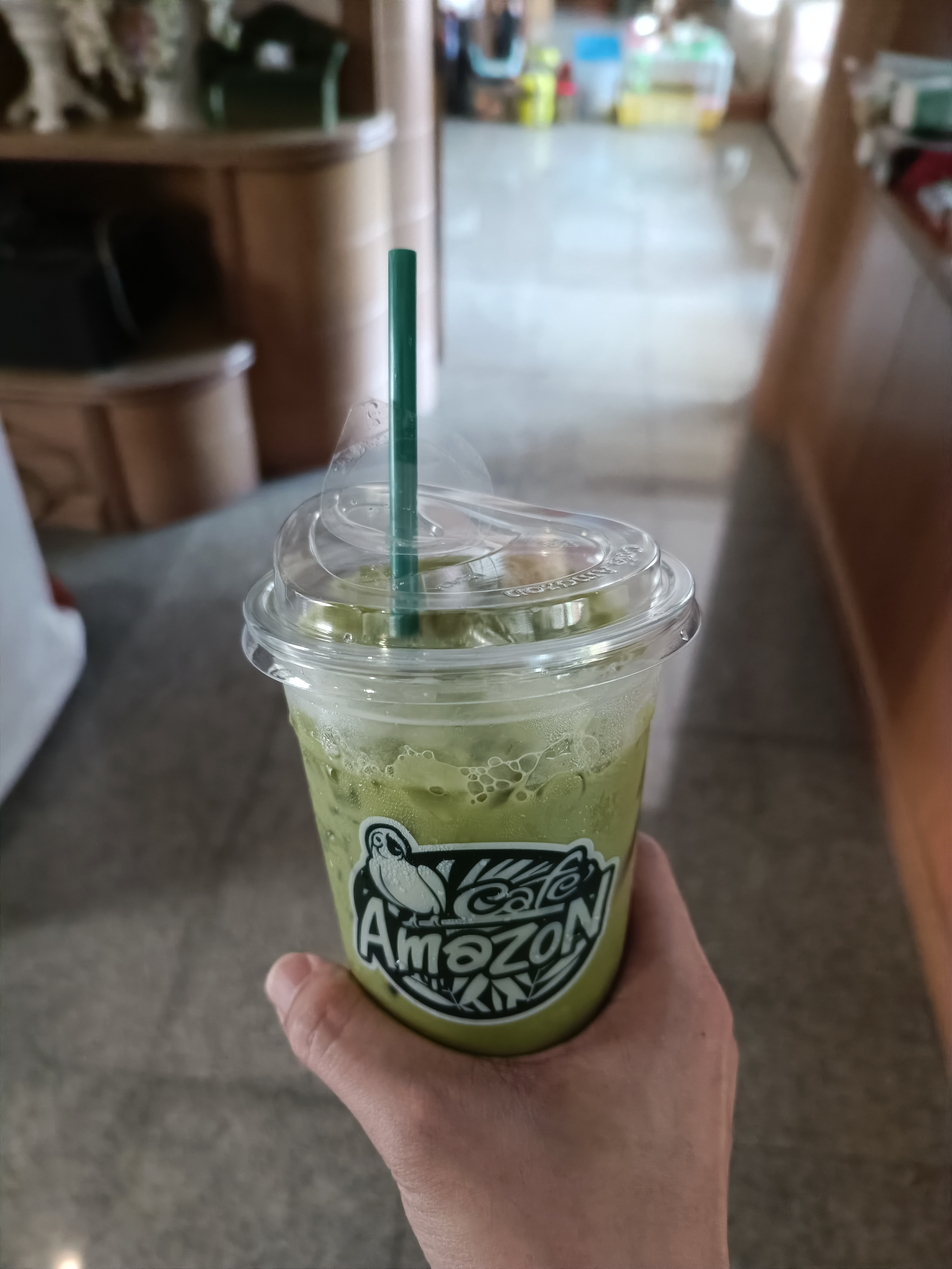plastic: (227, 232, 708, 1086)
